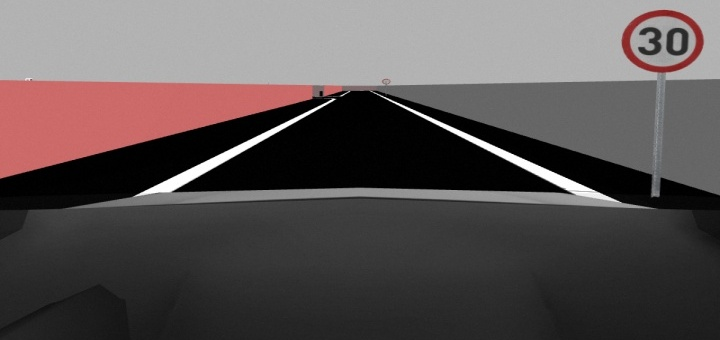hiz_30: (617, 9, 703, 74)
